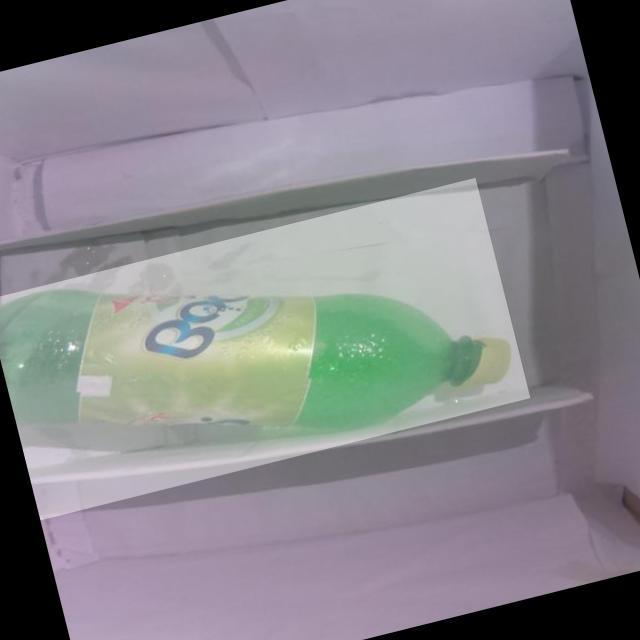good: (0, 176, 530, 518)
